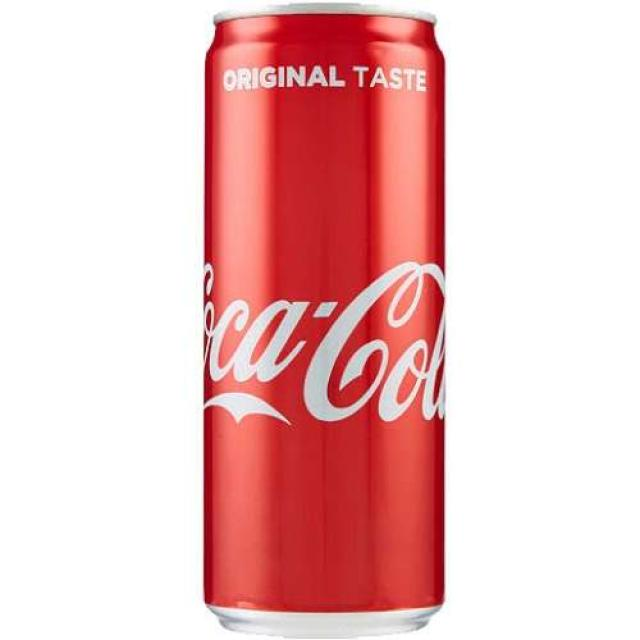cocacola: (188, 10, 449, 628)
